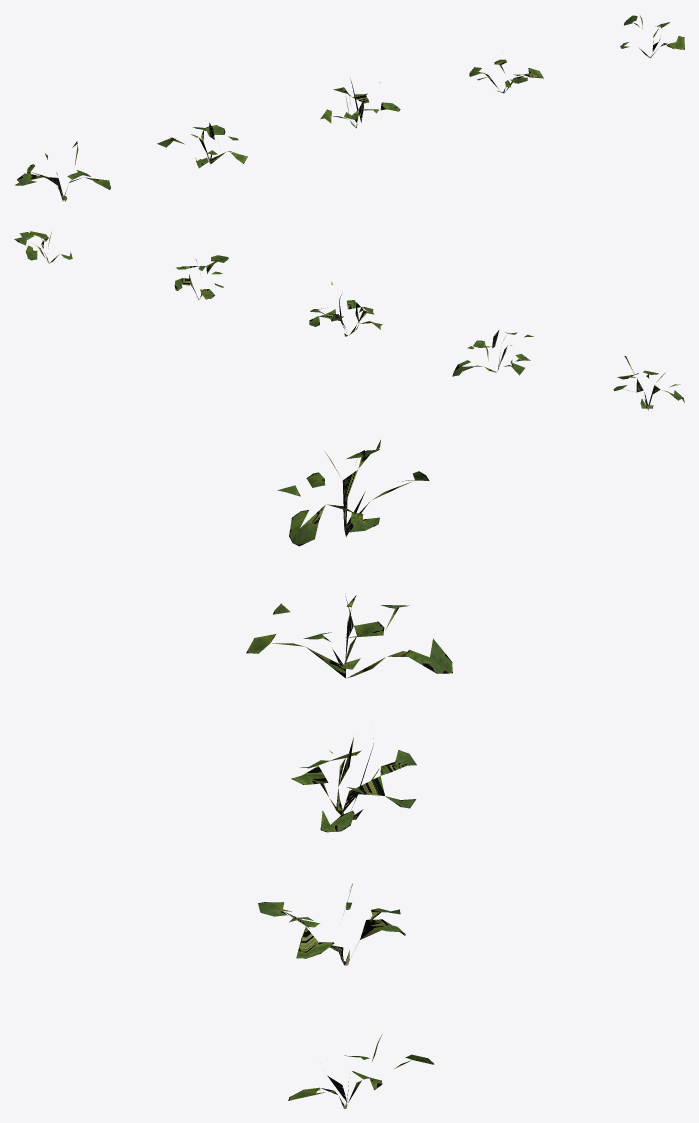
The model's file is ph_celandine_01.glb.
3 renders of one model, top to bottom at view 1: azimuth 30°, elevation 25°; view 2: azimuth 150°, elevation 25°; view 3: azimuth 270°, elevation 25°, orthographic. The views are drawn at different scales.
Parts seen in each view (by area): view 1: celandine_01_a_LOD0, celandine_01_b_LOD0, celandine_01_c_LOD0, celandine_01_d_LOD0, celandine_01_e_LOD0; view 2: celandine_01_c_LOD0, celandine_01_b_LOD0, celandine_01_d_LOD0, celandine_01_a_LOD0, celandine_01_e_LOD0; view 3: celandine_01_b_LOD0, celandine_01_c_LOD0, celandine_01_a_LOD0, celandine_01_d_LOD0.
Boxes of the visible parts, x1,y1,x2,y2 form: celandine_01_a_LOD0: (15, 141, 110, 201); celandine_01_b_LOD0: (157, 123, 247, 168); celandine_01_c_LOD0: (320, 79, 400, 128); celandine_01_d_LOD0: (469, 59, 543, 93); celandine_01_e_LOD0: (620, 15, 684, 58); celandine_01_c_LOD0: (309, 281, 382, 336); celandine_01_b_LOD0: (452, 330, 533, 376); celandine_01_d_LOD0: (174, 255, 228, 299); celandine_01_a_LOD0: (613, 356, 684, 410); celandine_01_e_LOD0: (14, 231, 72, 263); celandine_01_b_LOD0: (246, 595, 452, 678); celandine_01_c_LOD0: (291, 737, 416, 832); celandine_01_a_LOD0: (277, 440, 429, 546); celandine_01_d_LOD0: (258, 883, 405, 965).
Bounding box in the file's own units: 2.24 × 0.1723 × 0.3051.
1 material, 1 textured.
